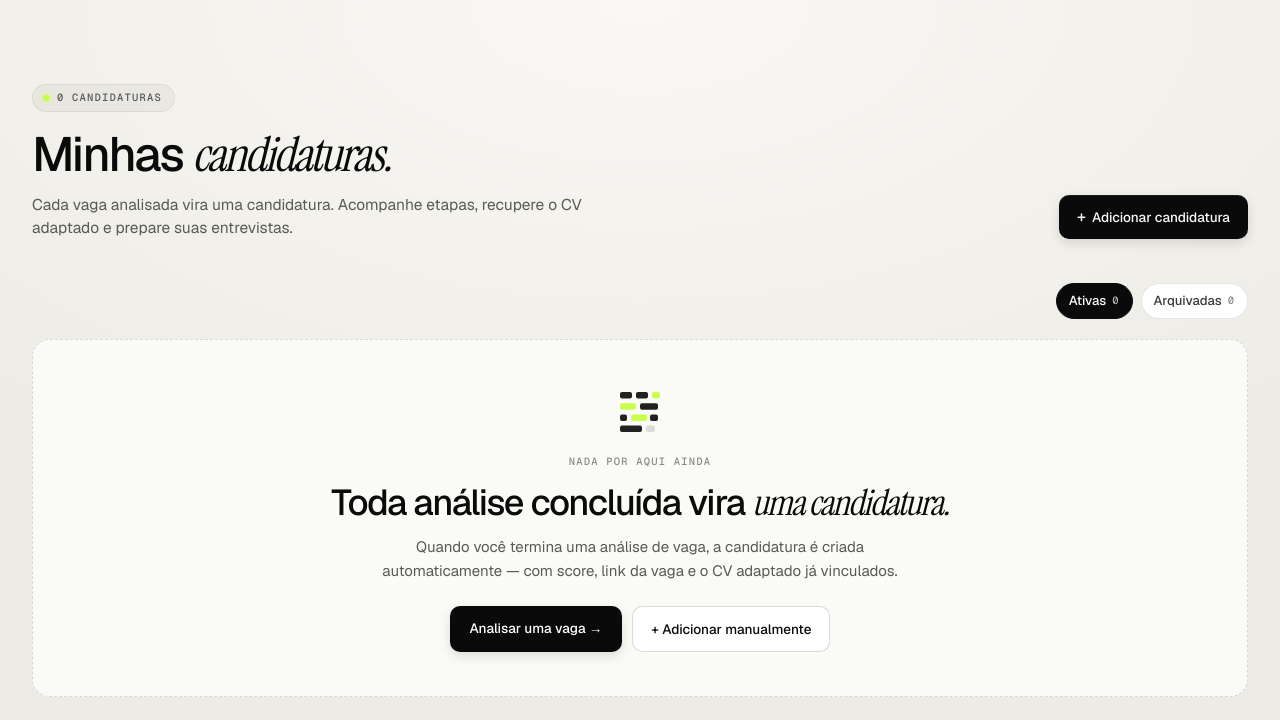
Test: CandidaturasClient › 4. clicking 'Adicionar candidatura' opens create modal
What coordinates should you click on to do the following:
click the button "+ Adicionar candidatura"
I would click on:
 (1153, 217)
Its box is [1059, 195, 1248, 239].
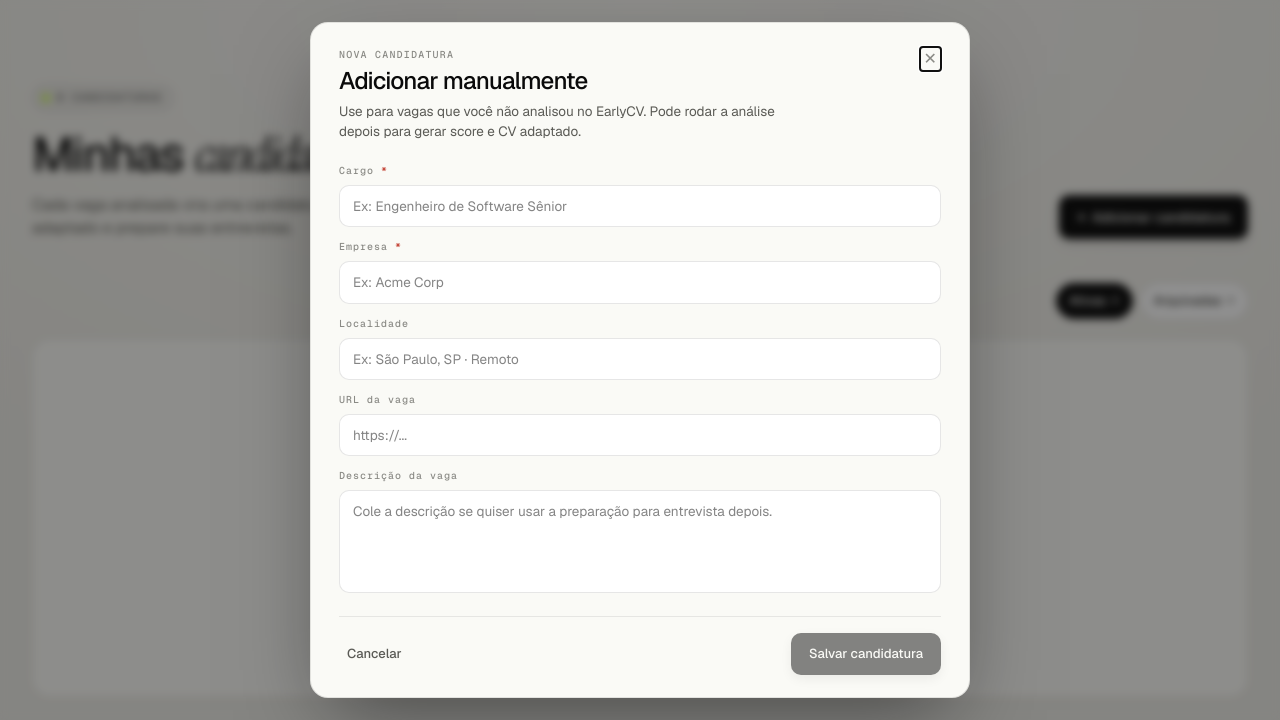
Expected: the text "Adicionar manualmente" is shown, [339, 65, 588, 96]
